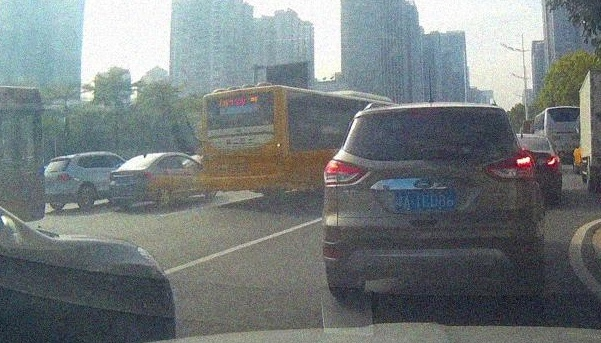L_light: (323, 158, 373, 186)
R_light: (484, 148, 536, 180)
T_light: (423, 108, 444, 114)
day-right: (322, 98, 537, 301)
